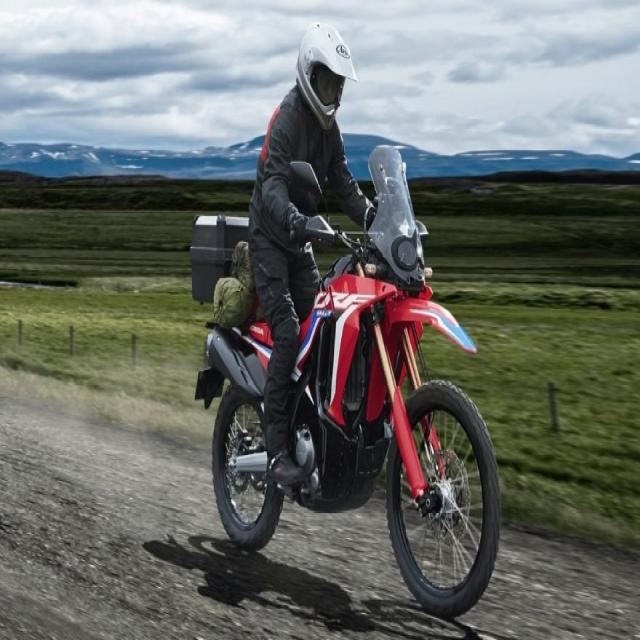Bike: (290, 146, 502, 621), (196, 322, 286, 553)
